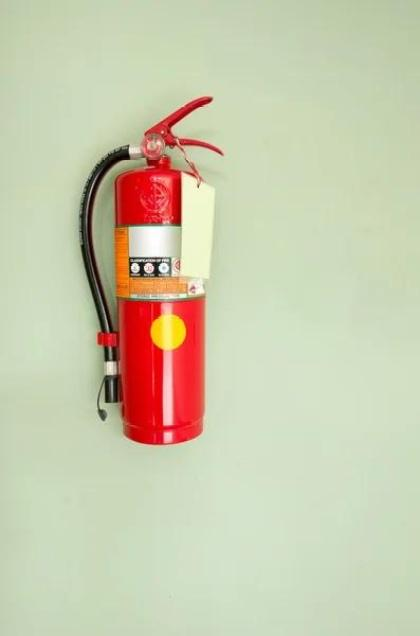APAR: (113, 94, 224, 443)
